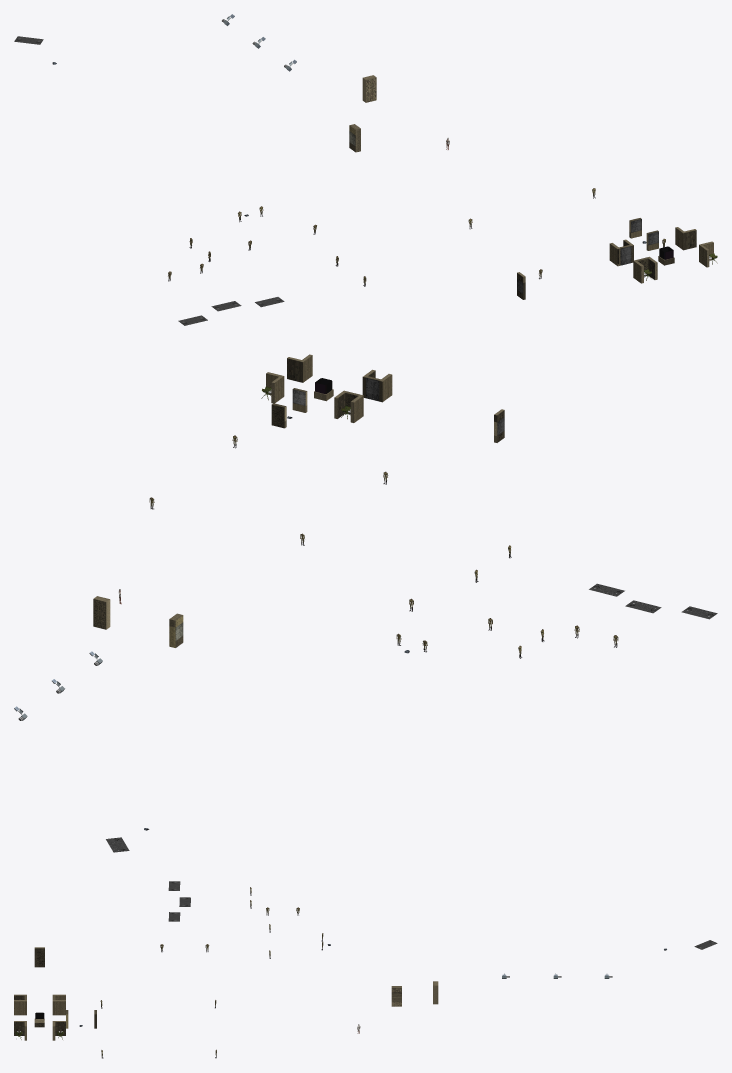
The picture shows the model from 3 angles, top to bottom: view 1: azimuth 30°, elevation 25°; view 2: azimuth 150°, elevation 25°; view 3: azimuth 270°, elevation 25°; orthographic projection. The views are drawn at different scales.
Parts seen in each view (by area): view 1: primary; view 2: primary; view 3: primary.
Boxes of the visible parts, bbox=[...] form: primary: bbox=[14, 14, 717, 325]; primary: bbox=[14, 354, 717, 852]; primary: bbox=[14, 881, 717, 1058].
Size of the model in its own units: 1919 by 189 by 3211.
288 materials, 288 textured.
